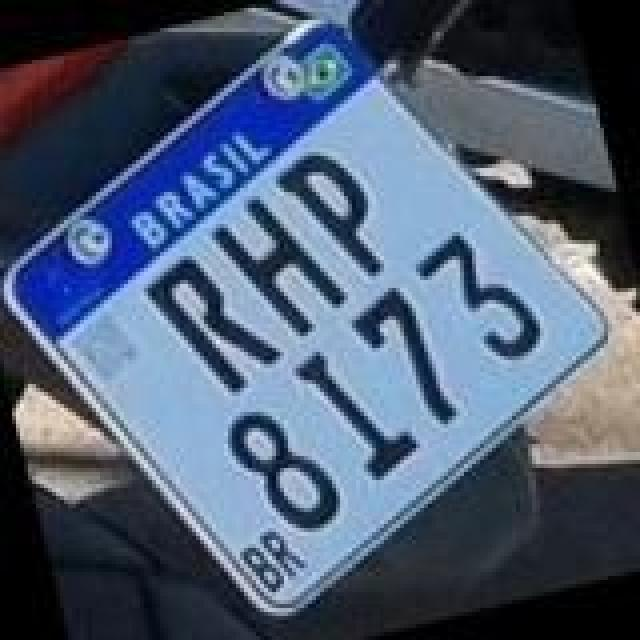3: (408, 216, 552, 376)
7: (338, 276, 462, 444)
8: (222, 396, 346, 548)
H: (202, 176, 358, 352)
I: (288, 334, 432, 498)
P: (266, 138, 390, 294)
R: (138, 238, 294, 410)
